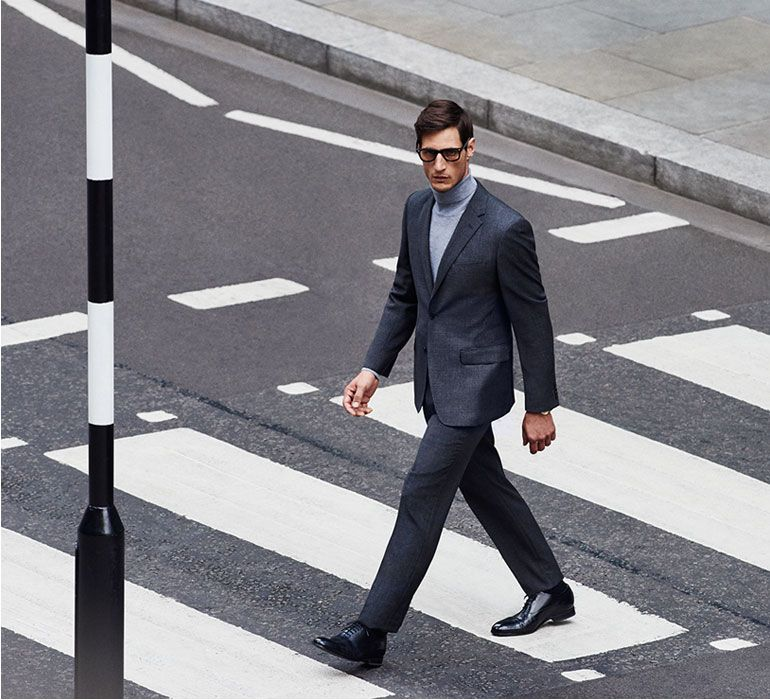person: (300, 90, 593, 665)
